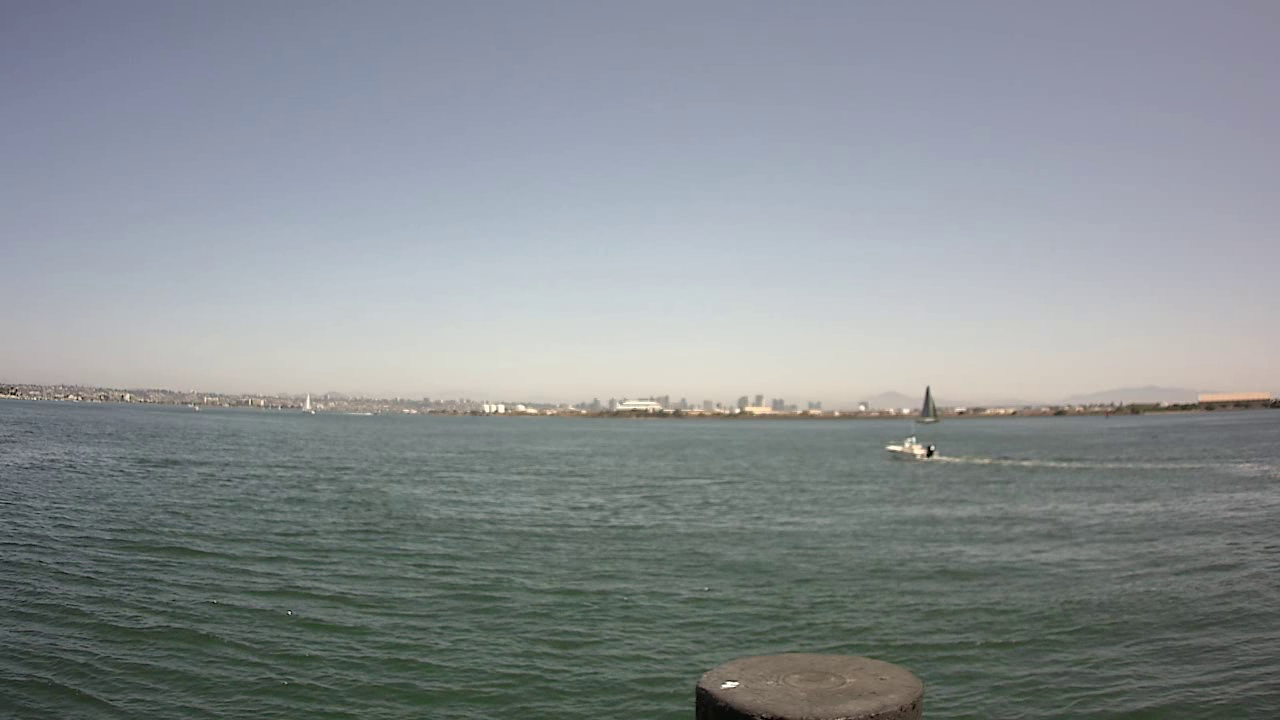target: (883, 428, 942, 464)
